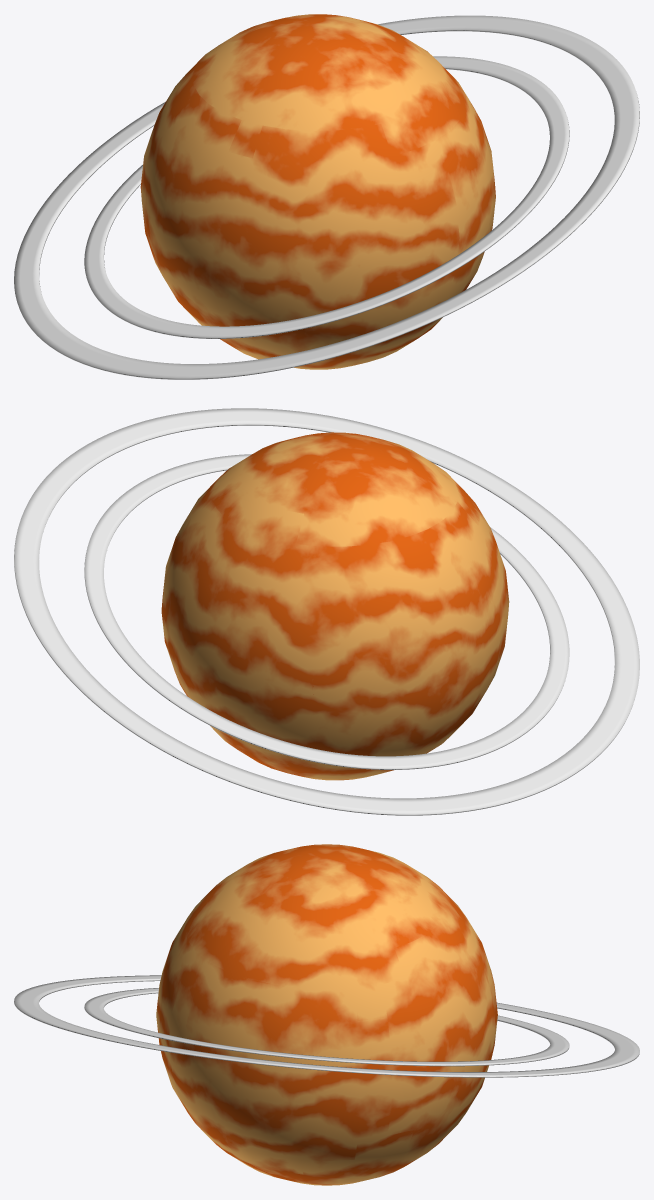
The model's file is planet8.fbx.
3 views of the same model, one above another, from view 1: azimuth 30°, elevation 25°; view 2: azimuth 150°, elevation 25°; view 3: azimuth 270°, elevation 25° (orthographic). The views are drawn at different scales.
Visible parts, largest first — view 1: planet8, rings; view 2: planet8, rings; view 3: planet8, rings.
Boxes of the visible parts, x1,y1,x2,y2 form: planet8: [140, 14, 495, 369]; rings: [14, 15, 639, 379]; planet8: [161, 432, 509, 780]; rings: [14, 408, 639, 815]; planet8: [156, 844, 497, 1185]; rings: [14, 975, 639, 1077].
Size of the model in its own units: 395 by 225 by 411.
Materials: 2 (1 with a texture image).
